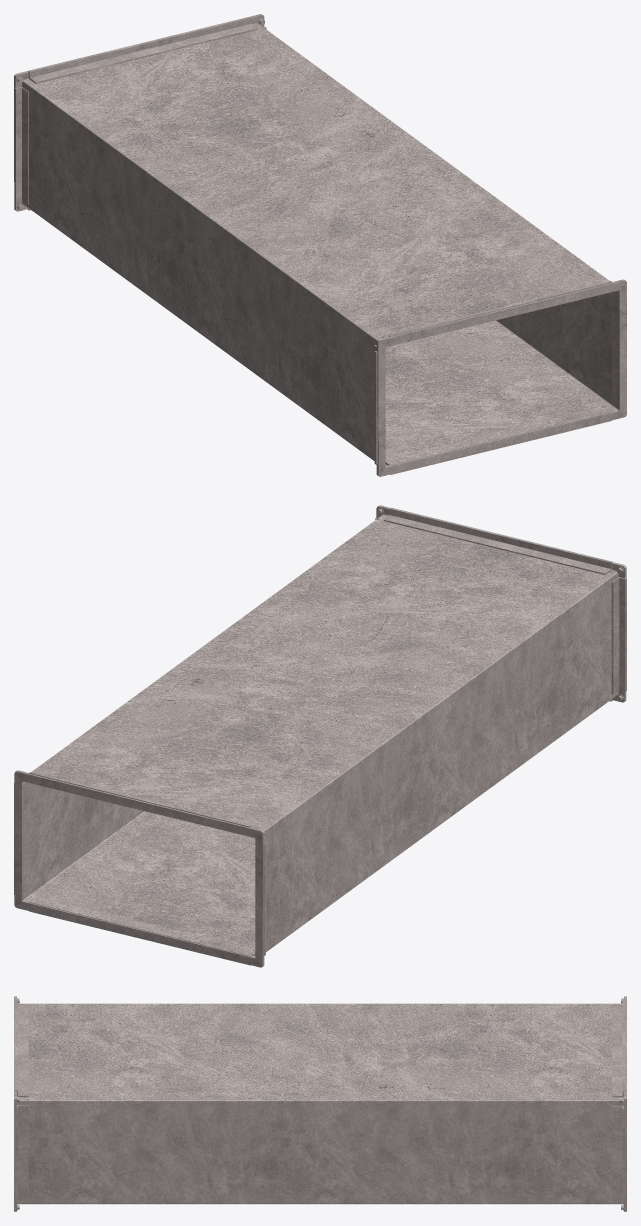
File: SM_Square_Ducting_02i.glb
The picture shows the model from 3 angles, top to bottom: view 1: azimuth 30°, elevation 25°; view 2: azimuth 150°, elevation 25°; view 3: azimuth 270°, elevation 25°; orthographic projection. The views are drawn at different scales.
Visible parts, largest first — view 1: SM_Square_Ducting_02i; view 2: SM_Square_Ducting_02i; view 3: SM_Square_Ducting_02i.
Part boxes in pixels (x1=…): SM_Square_Ducting_02i: x1=14, y1=14, x2=626, y2=476; SM_Square_Ducting_02i: x1=14, y1=505, x2=626, y2=967; SM_Square_Ducting_02i: x1=14, y1=996, x2=626, y2=1211.
Size of the model in its own units: 0.797 by 0.4213 by 2.
Materials: 1 (1 with a texture image).
